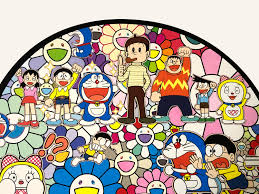doraemon: (163, 130, 209, 194), (72, 72, 120, 126)
